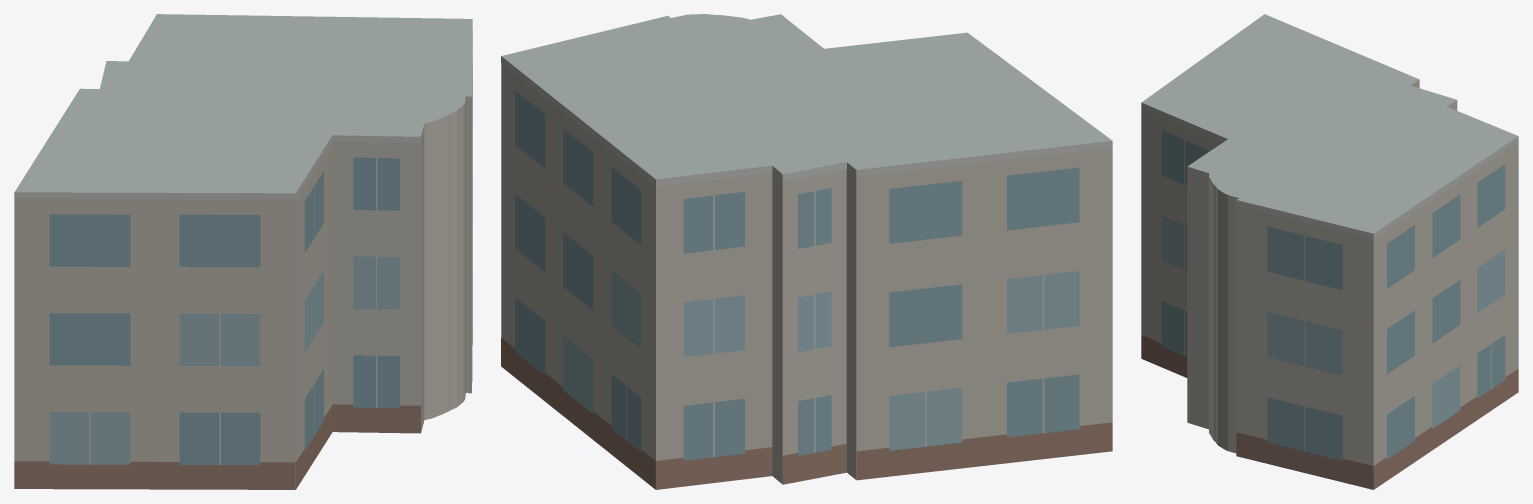
File: survey-upis-32475478.glb
3 views of the same model, side by side, from view 1: azimuth 30°, elevation 25°; view 2: azimuth 150°, elevation 25°; view 3: azimuth 270°, elevation 25° (orthographic). The views are drawn at different scales.
Visible parts, largest first — view 1: survey-upis-32475478.tmp; view 2: survey-upis-32475478.tmp; view 3: survey-upis-32475478.tmp.
Part boxes in pixels (<box>): survey-upis-32475478.tmp: <box>14,14,472,489</box>; survey-upis-32475478.tmp: <box>501,14,1112,489</box>; survey-upis-32475478.tmp: <box>1141,14,1518,489</box>.
Size of the model in its own units: 20.05 by 10.9 by 14.55.
